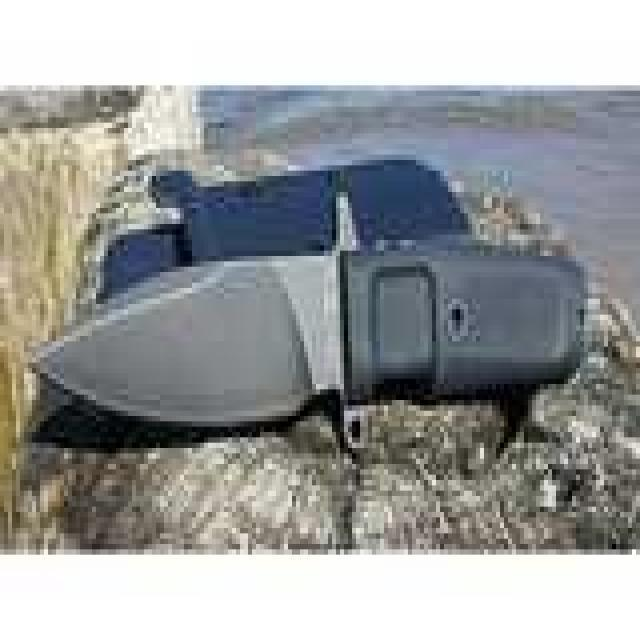knife: (28, 194, 592, 437)
